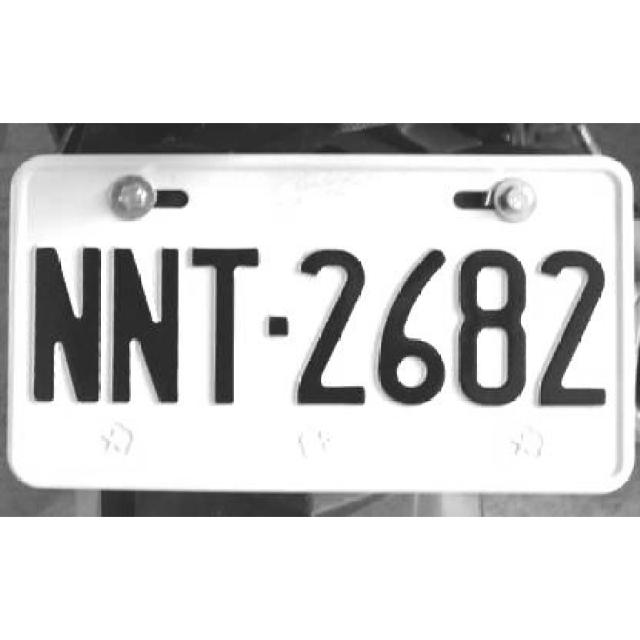-: (264, 303, 290, 346)
2: (531, 243, 611, 419), (292, 240, 368, 414)
6: (370, 242, 448, 416)
8: (451, 243, 532, 414)
N: (109, 242, 183, 406), (31, 243, 103, 406)
T: (192, 245, 262, 406)
